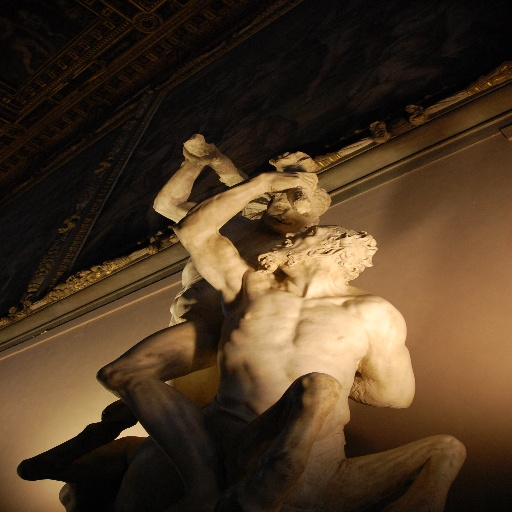hand: (264, 171, 323, 190), (183, 145, 221, 165)
